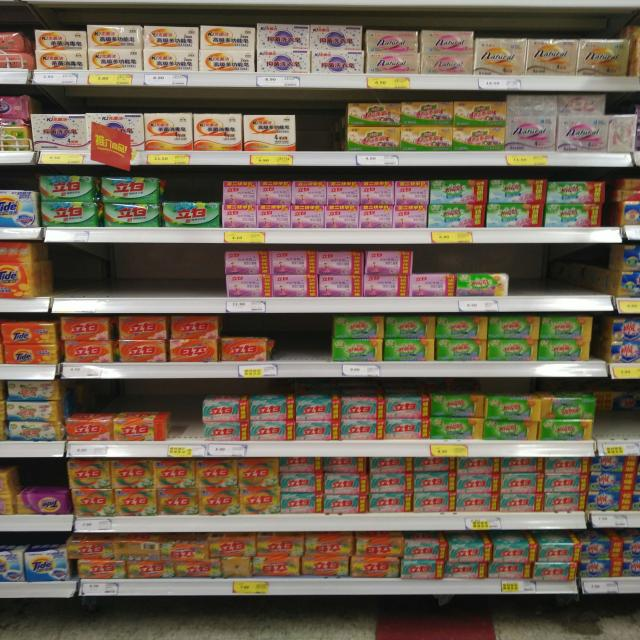void: (301, 92, 345, 166), (187, 243, 225, 313), (46, 241, 82, 311), (151, 244, 185, 314), (512, 243, 546, 312), (548, 244, 582, 312), (116, 243, 148, 313), (169, 382, 198, 458), (584, 246, 617, 311), (85, 242, 114, 314), (272, 316, 302, 377), (304, 315, 331, 377)
